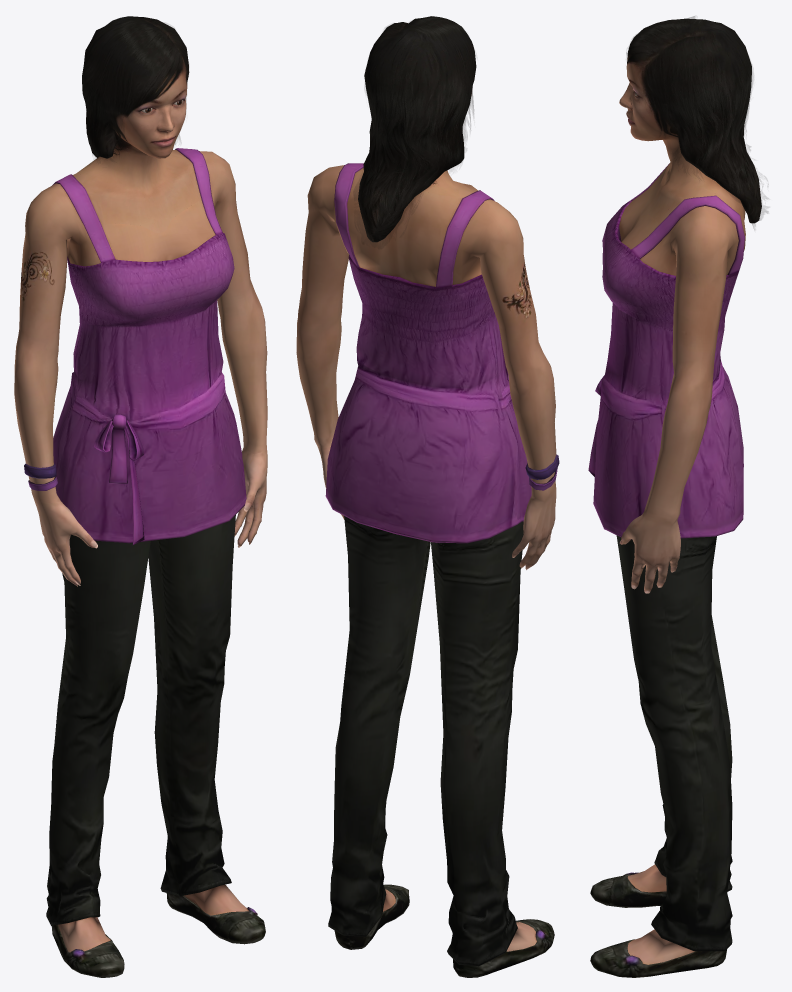
File: female-adult-03.glb
3 views of the same model, side by side, from view 1: azimuth 30°, elevation 25°; view 2: azimuth 150°, elevation 25°; view 3: azimuth 270°, elevation 25° (orthographic). The views are drawn at different scales.
Visible parts, largest first — view 1: f003_hipoly_81_bones_opacity; view 2: f003_hipoly_81_bones_opacity; view 3: f003_hipoly_81_bones_opacity.
Boxes of the visible parts, <box> form: f003_hipoly_81_bones_opacity: <box>14,16,267,977</box>; f003_hipoly_81_bones_opacity: <box>296,16,559,977</box>; f003_hipoly_81_bones_opacity: <box>588,16,768,977</box>.
Bounding box in the file's own units: 0.4861 × 1.7 × 0.3184.
3 materials, 3 textured.
